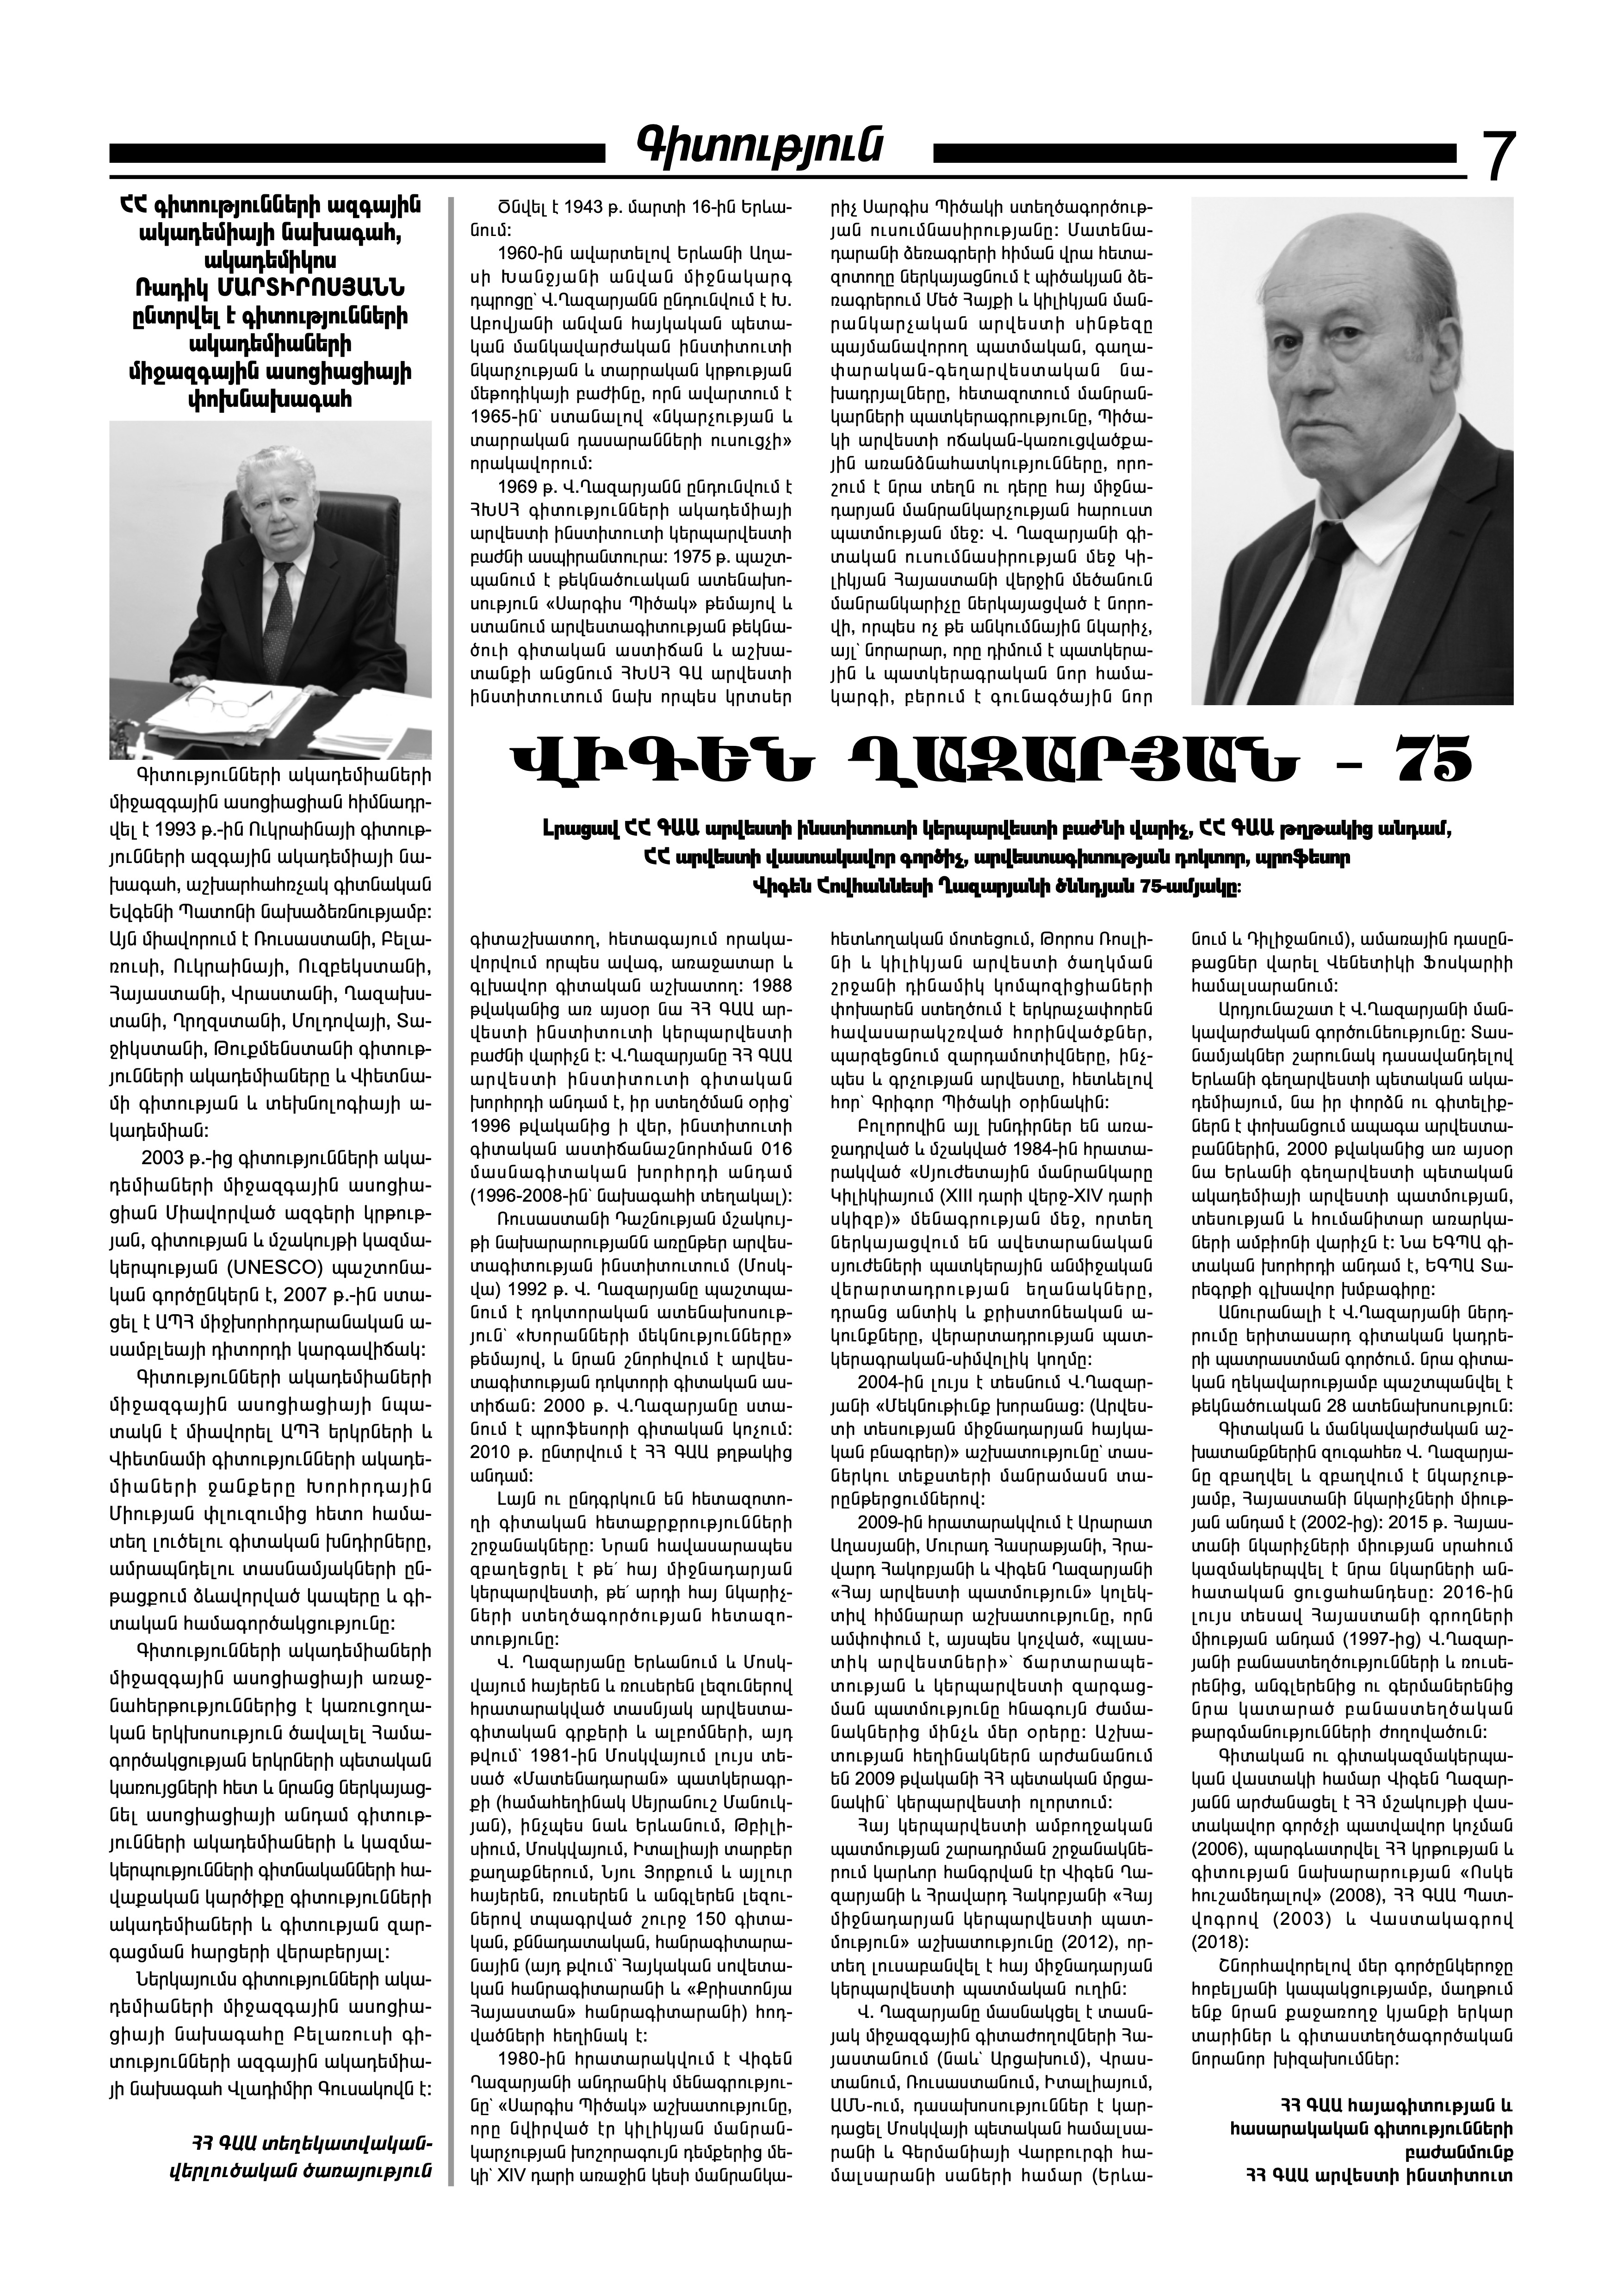person: (1178, 187, 1527, 702), (102, 412, 435, 767)
